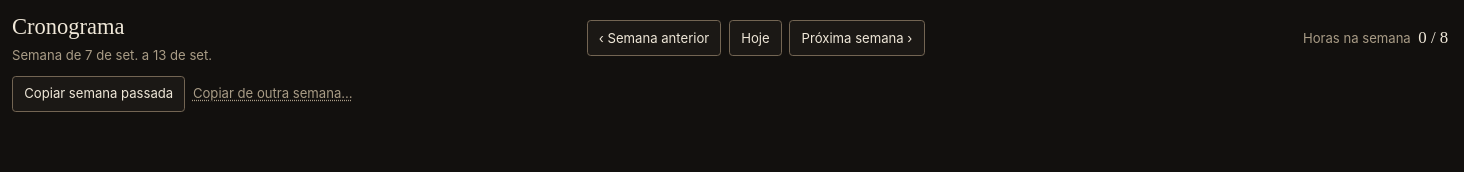
Test case: CabecalhoDeSemana — semana modelo › erro ao verificar 'outra semana' mostra alerta local e não abre a confirmação
Click the button "Copiar de outra semana…" at (273, 94), box x1=193 y1=84 x2=353 y2=103
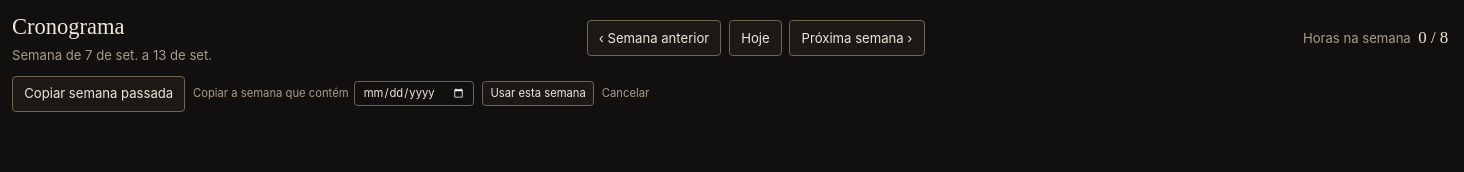
Type "2026-08-20" into the date field labelled "Copiar a semana que contém" at (414, 94), box x1=354 y1=81 x2=474 y2=106
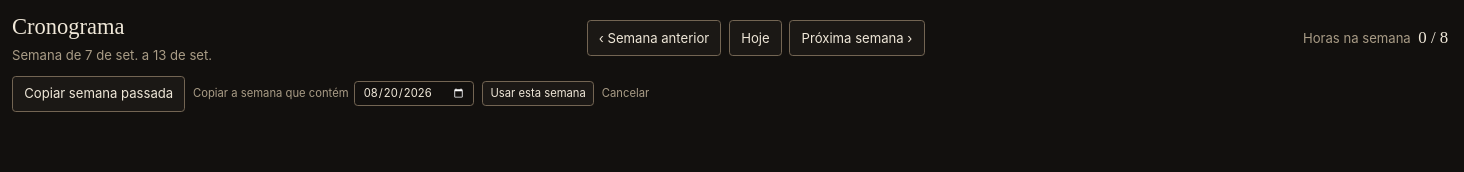
Click the button "Usar esta semana" at (538, 94), box x1=482 y1=81 x2=594 y2=106
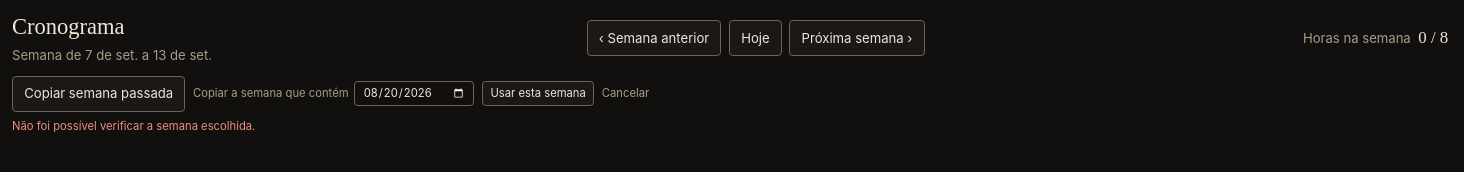
Expected: the message reads "Não foi possível verificar a semana escolhida.", x1=12 y1=119 x2=255 y2=133
